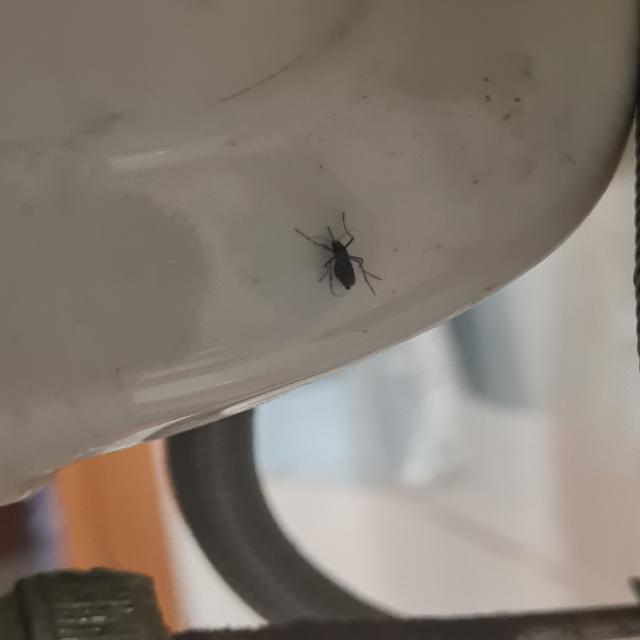albopictus: (288, 206, 384, 296)
